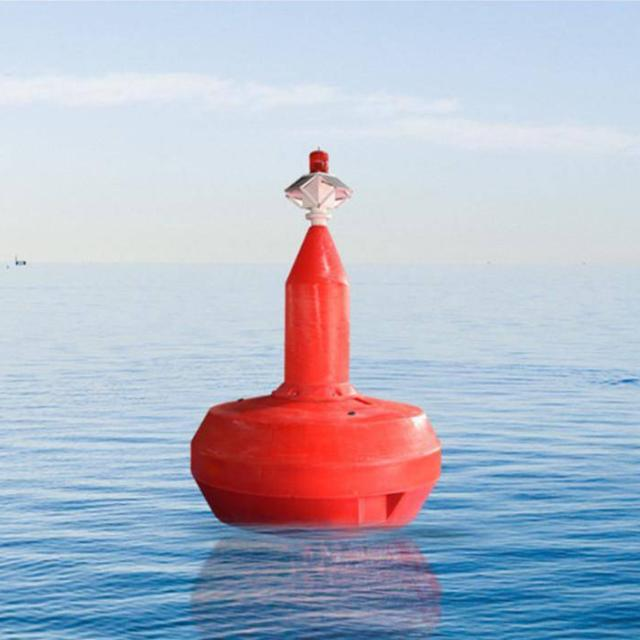buoy: (189, 143, 451, 536)
